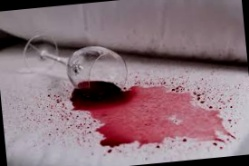wine: (72, 81, 223, 162)
